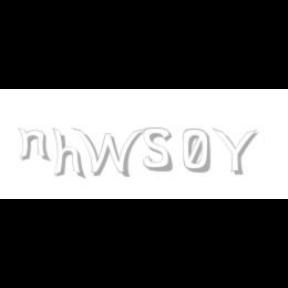0: (182, 128, 214, 174)
S: (143, 128, 174, 172)
W: (71, 128, 143, 178)
Y: (212, 128, 258, 176)
h: (52, 128, 88, 180)
n: (17, 128, 51, 162)
